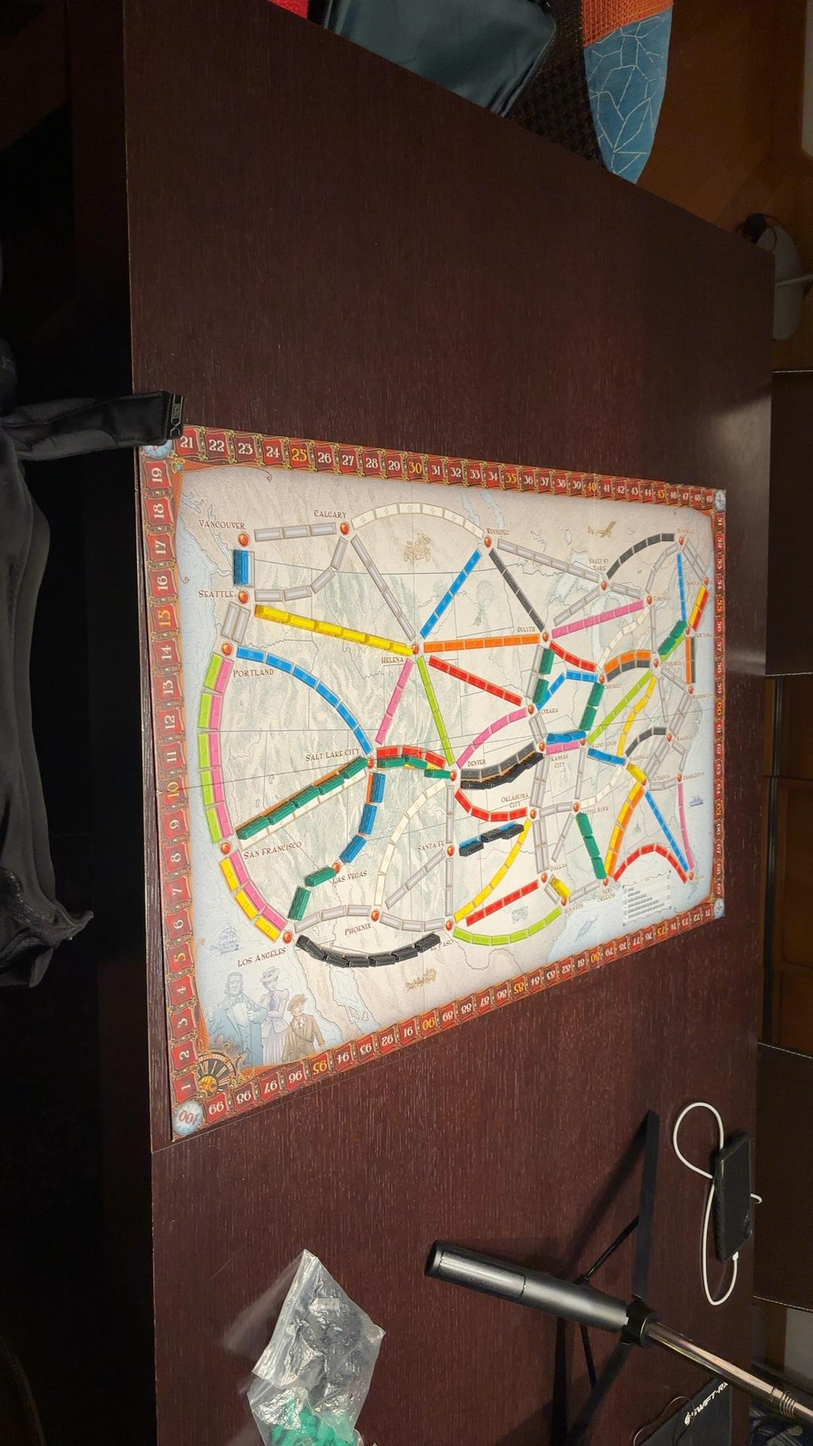blue_train: (234, 549, 248, 585)
green_train: (288, 886, 310, 920), (306, 865, 334, 887), (340, 759, 367, 778), (379, 756, 411, 769), (540, 647, 553, 676), (427, 769, 451, 779)
yellow_train: (552, 877, 569, 901), (628, 764, 645, 784)
